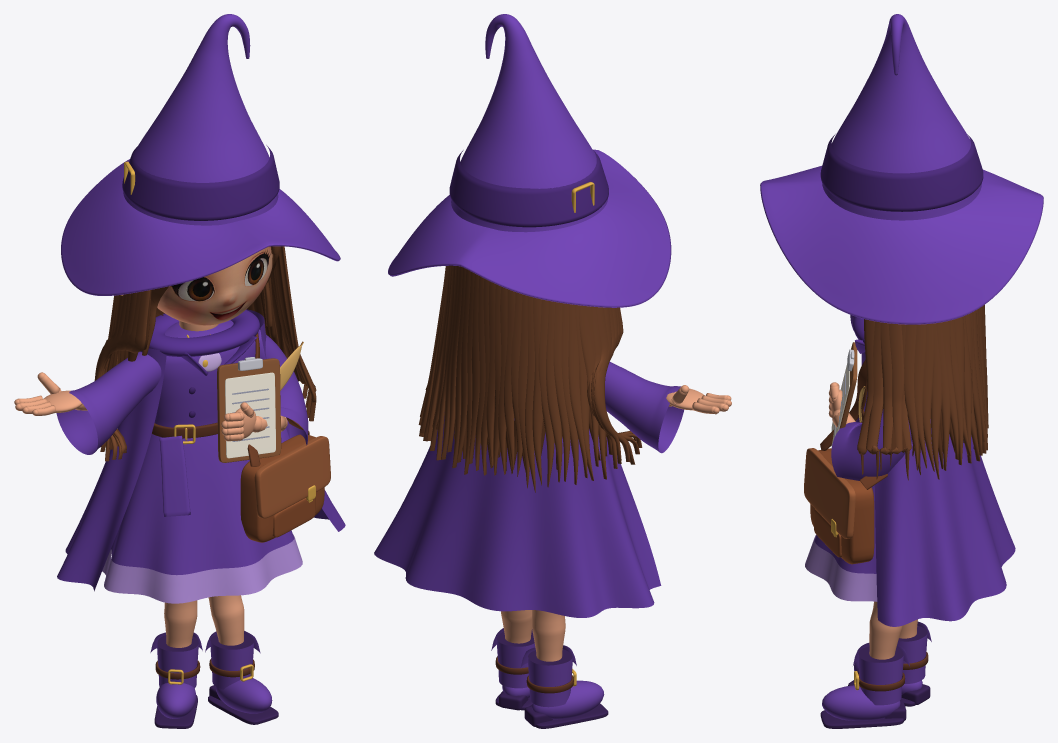
The model's file is ミーナ.glb.
3 views of the same model, side by side, from view 1: azimuth 30°, elevation 25°; view 2: azimuth 150°, elevation 25°; view 3: azimuth 270°, elevation 25° (orthographic). The views are drawn at different scales.
Visible parts, largest first — view 1: Hat, Body, Cape, Boots, Bag, Hair, Arms, Clipboard, Head, Belt, Legs, Hands; view 2: Hat, Cape, Hair, Boots, Arms, Legs, Hands; view 3: Hat, Cape, Hair, Boots, Bag, Body, Arms, Legs, Clipboard, Hands.
Boxes of the visible parts, x1,y1,x2,y2 form: Hat: [61, 14, 340, 295]; Body: [102, 320, 302, 603]; Cape: [57, 309, 345, 591]; Boots: [150, 631, 278, 728]; Bag: [240, 333, 330, 542]; Hair: [94, 246, 316, 461]; Arms: [56, 329, 308, 454]; Clipboard: [217, 341, 303, 462]; Head: [157, 246, 272, 325]; Belt: [152, 422, 217, 516]; Legs: [164, 595, 244, 647]; Hands: [14, 372, 287, 441]; Hat: [388, 14, 671, 307]; Cape: [374, 412, 661, 617]; Hair: [418, 265, 642, 492]; Boots: [491, 628, 608, 728]; Arms: [605, 362, 683, 453]; Legs: [501, 610, 565, 661]; Hands: [666, 385, 731, 414]; Hat: [760, 14, 1043, 324]; Cape: [853, 316, 1015, 626]; Hair: [857, 305, 988, 480]; Boots: [820, 621, 931, 728]; Bag: [804, 359, 887, 564]; Body: [805, 352, 877, 601]; Arms: [831, 315, 911, 480]; Legs: [869, 601, 917, 659]; Clipboard: [831, 342, 865, 447]; Hands: [828, 382, 855, 427].
Bounding box in the file's own units: 0.674 × 1.33 × 0.4846.
Materials: 27 (1 with a texture image).
